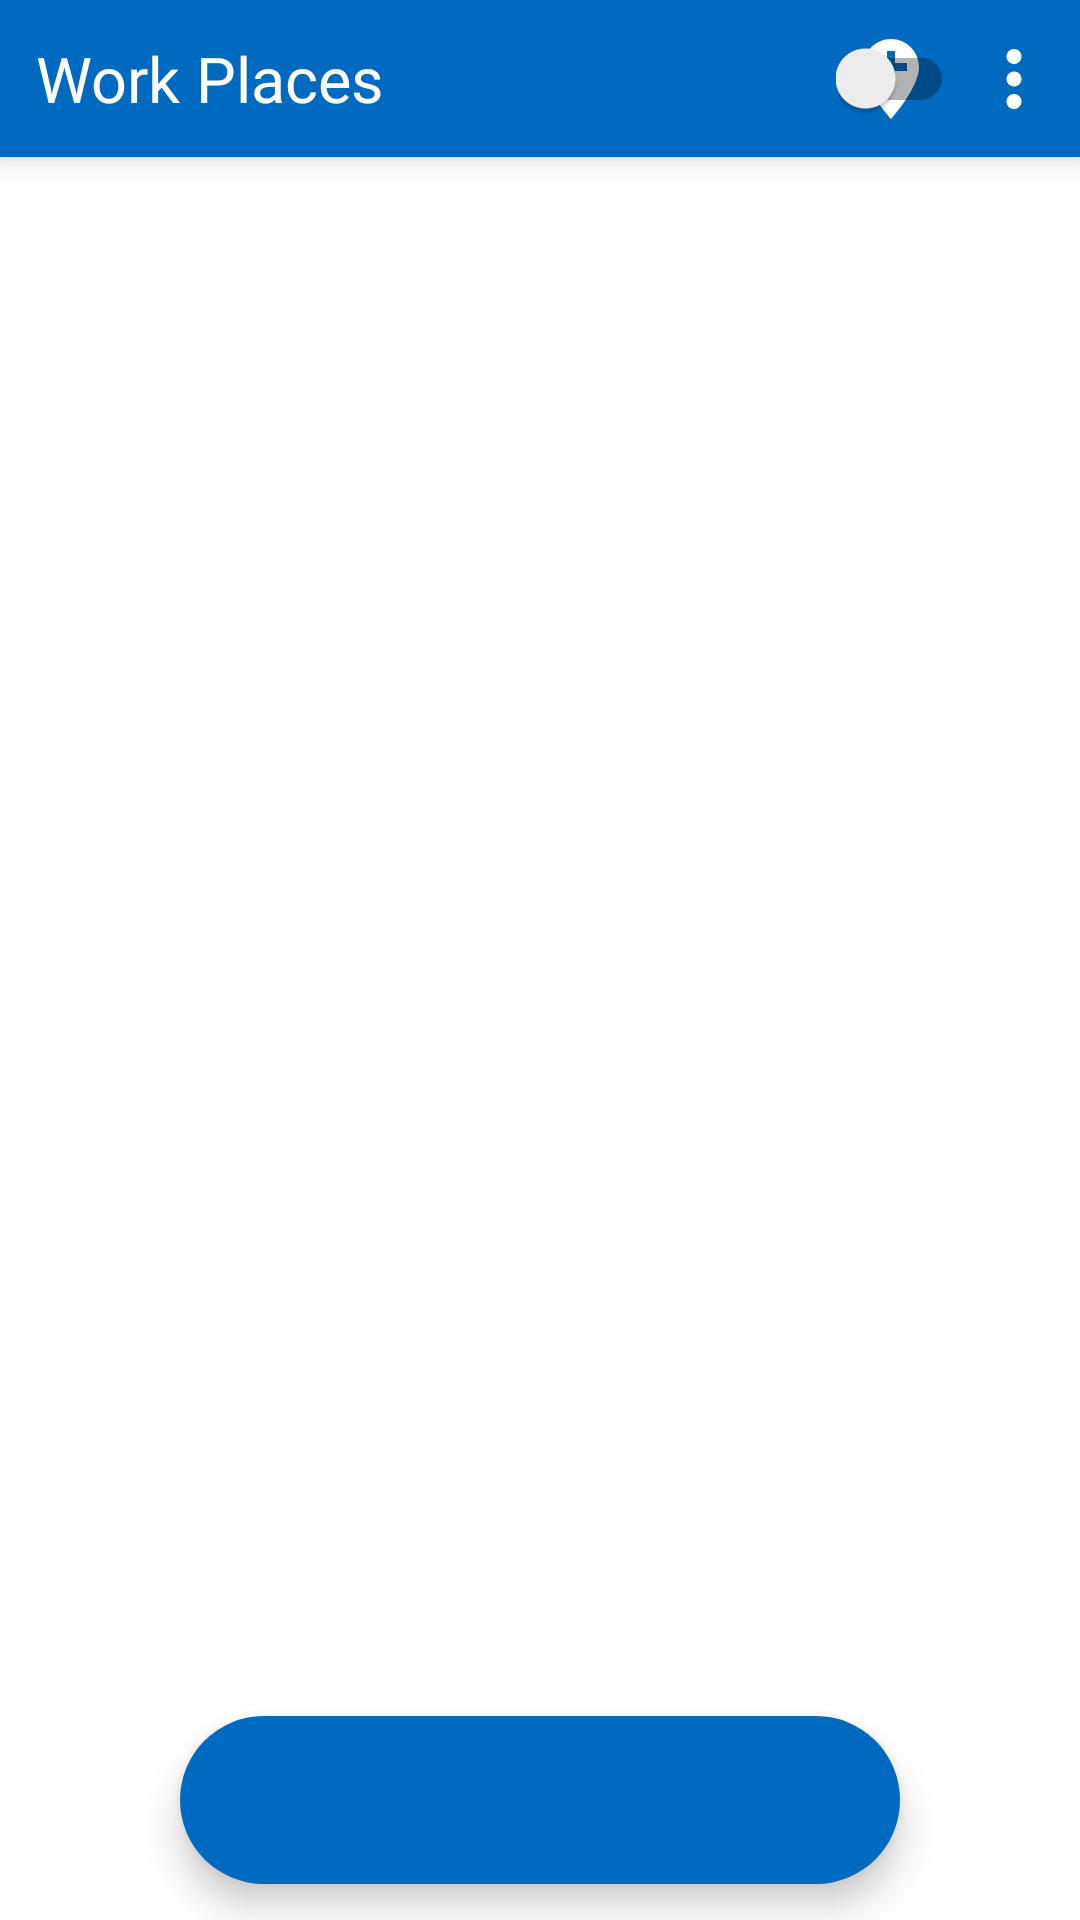

Screen size 1080*1920. Icon name, then its center in pixels as (x=x, y=y):
more: (x=1014, y=79)
